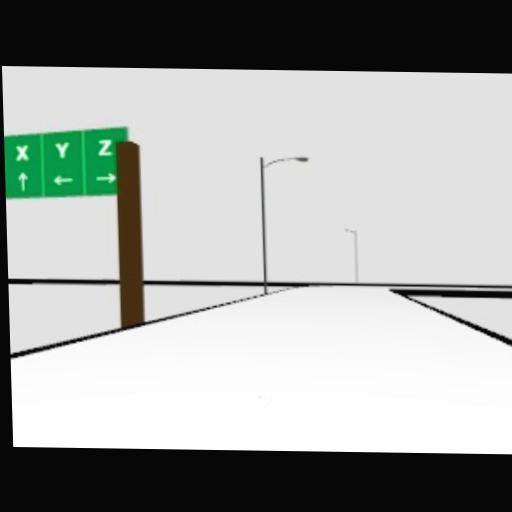Left: (52, 173, 73, 185)
Right: (95, 171, 117, 182)
Straight: (17, 170, 28, 189)
X: (14, 143, 29, 160)
Y: (55, 139, 70, 156)
Z: (96, 137, 113, 154)
